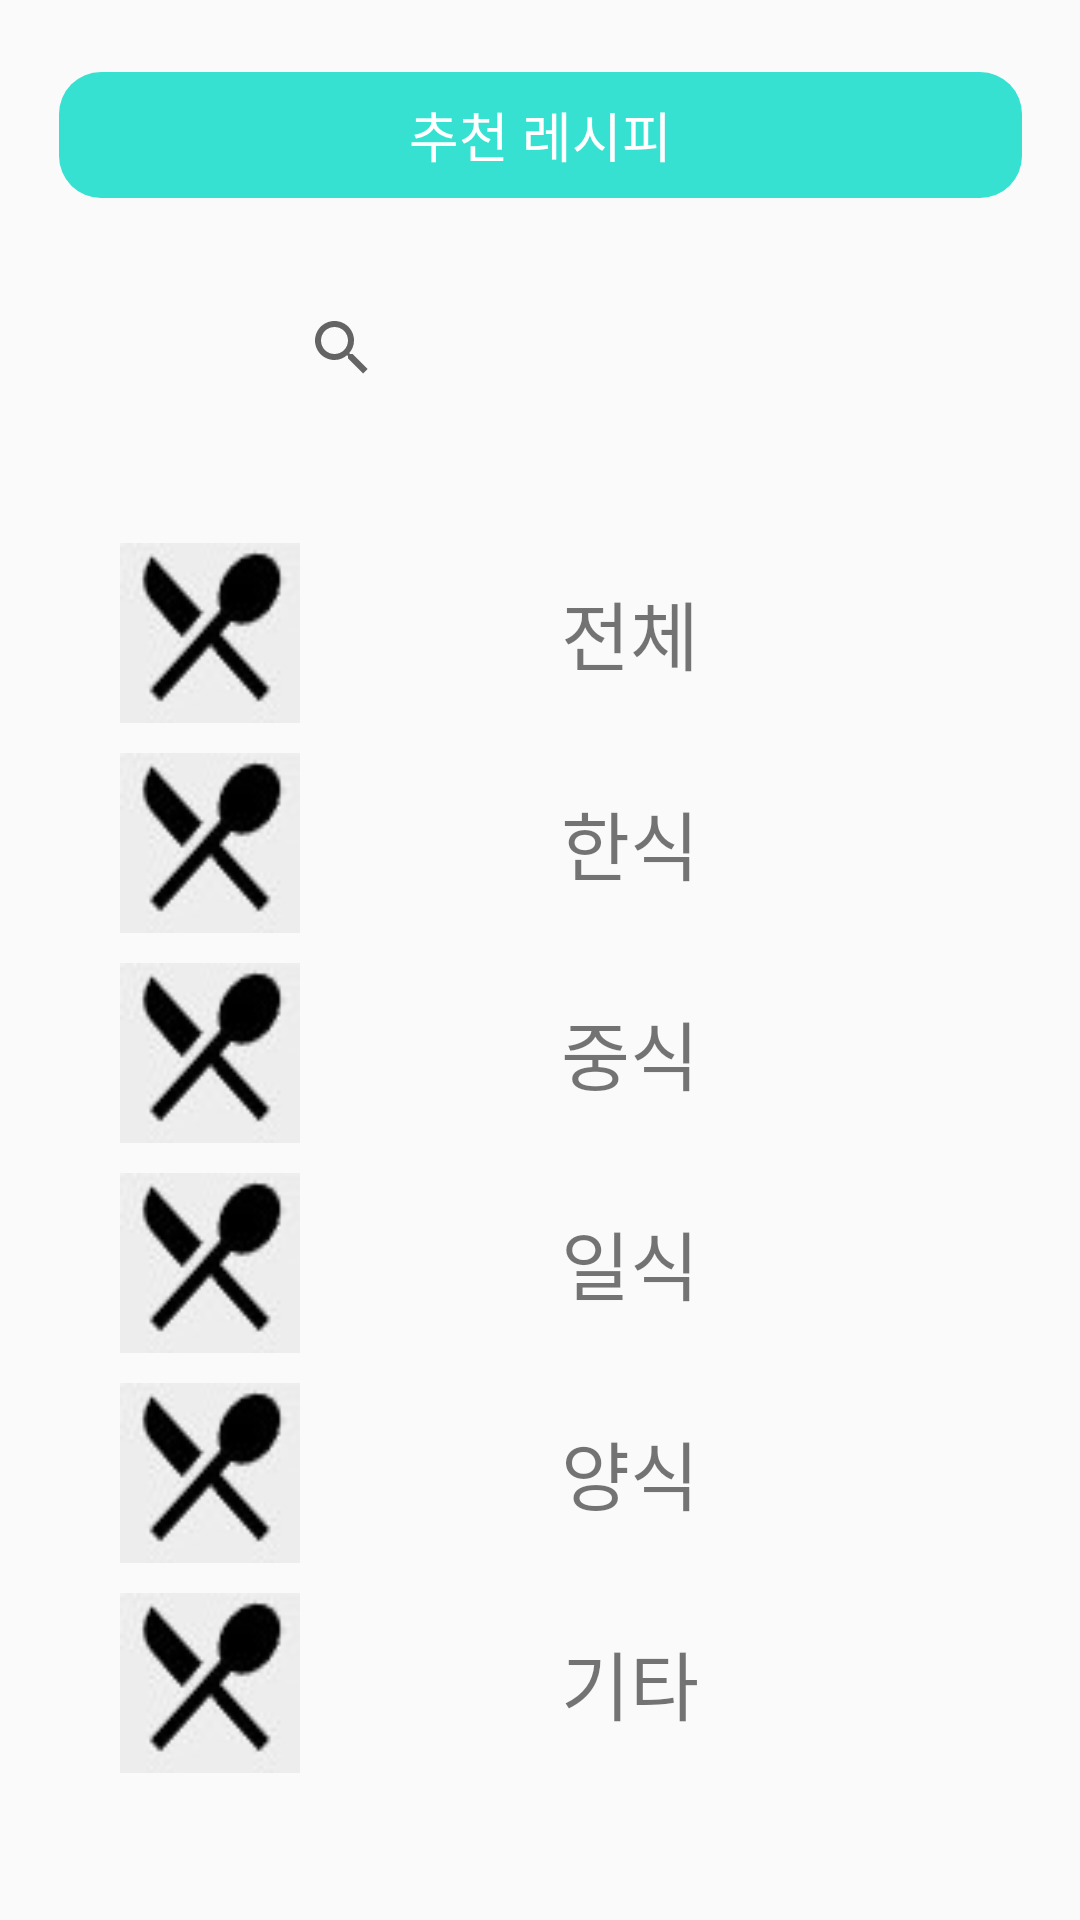

Point at icon controls on the screen. Image size 1080 × 1920, points as point (x, y).
spoon: point (210, 633), point (210, 843), point (210, 1053), point (210, 1263), point (210, 1473), point (210, 1683)
